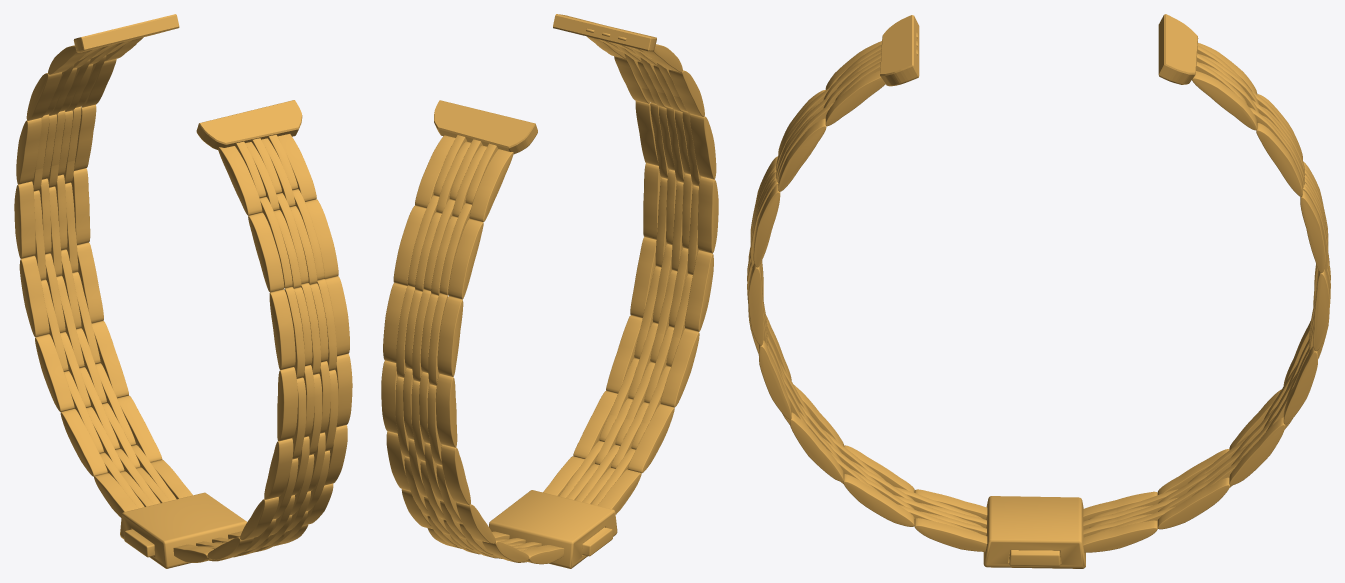
The model's file is metal_band.glb.
3 views of the same model, side by side, from view 1: azimuth 30°, elevation 25°; view 2: azimuth 150°, elevation 25°; view 3: azimuth 270°, elevation 25° (orthographic). The views are drawn at different scales.
Parts seen in each view (by area): view 1: watch_wrist_metal; view 2: watch_wrist_metal; view 3: watch_wrist_metal.
Part boxes in pixels (x1,y1,x2,y2): watch_wrist_metal: (14, 14, 352, 568); watch_wrist_metal: (381, 14, 718, 568); watch_wrist_metal: (747, 14, 1330, 568).
Bounding box in the file's own units: 0.7778 × 3.42 × 3.55.
